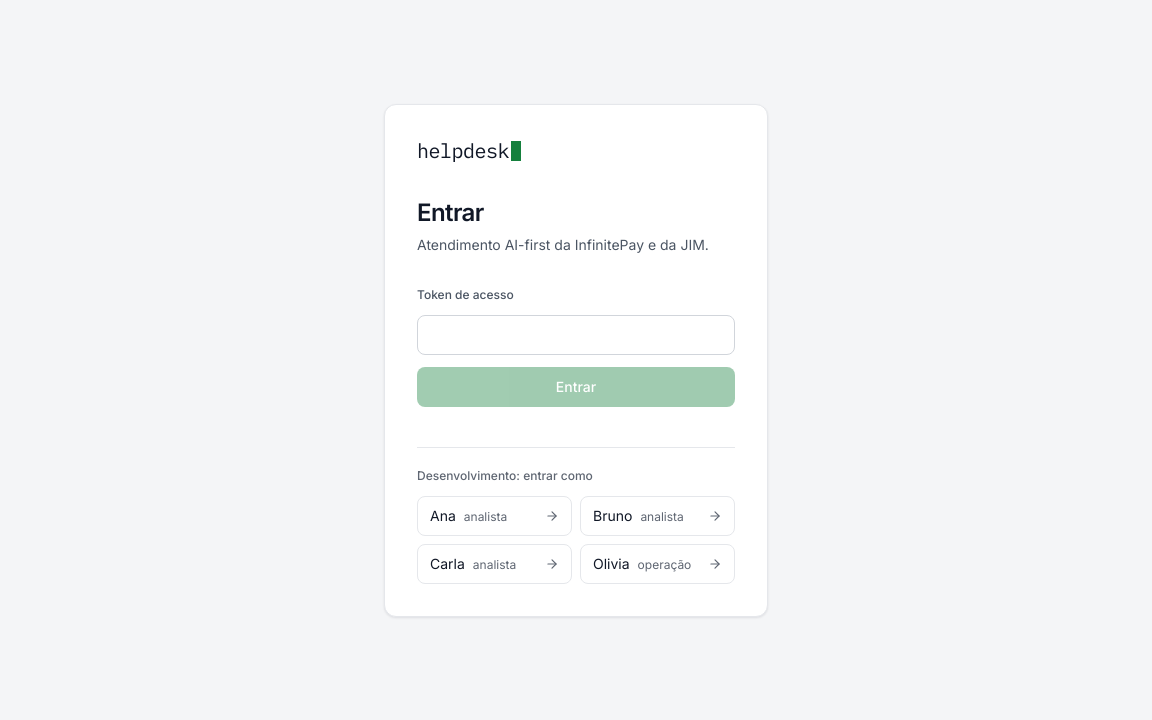
Test: entrada na plataforma › pede o token, confere quem é e mostra a navegação do analista
Type "token-da-ana" into the password field labelled "Token de acesso". click: [576, 334]
box: [417,314,735,354]
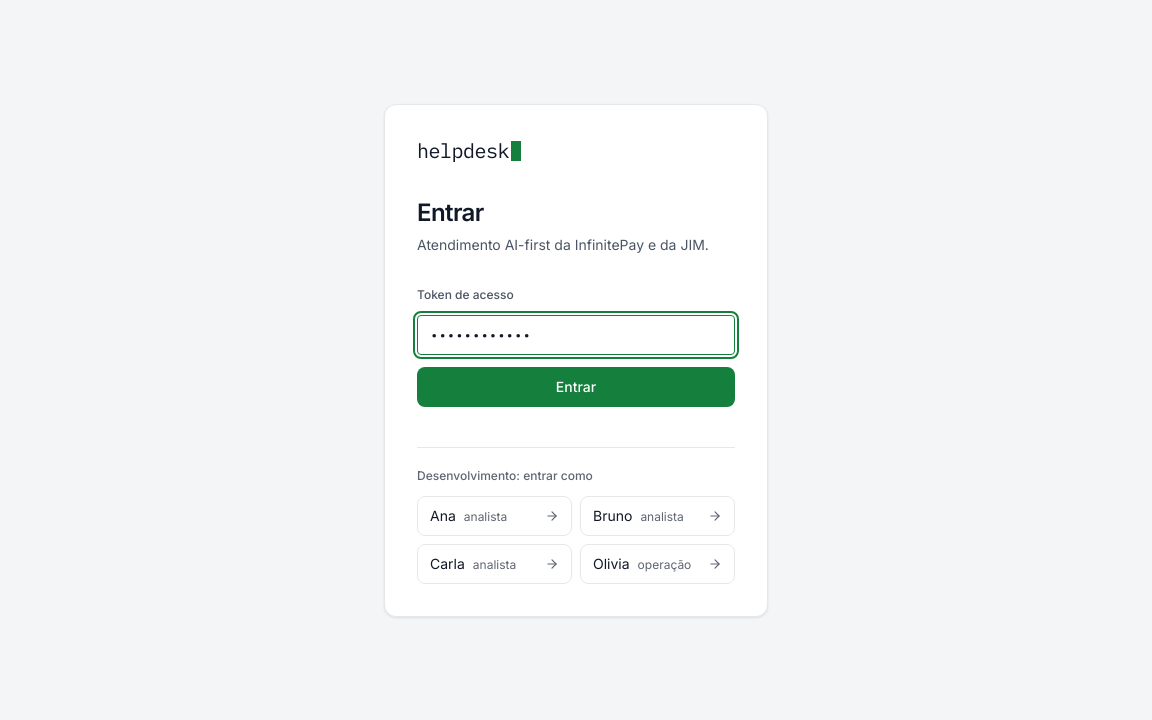
Click the button "Entrar". click: [576, 386]
box: [417,366,735,406]
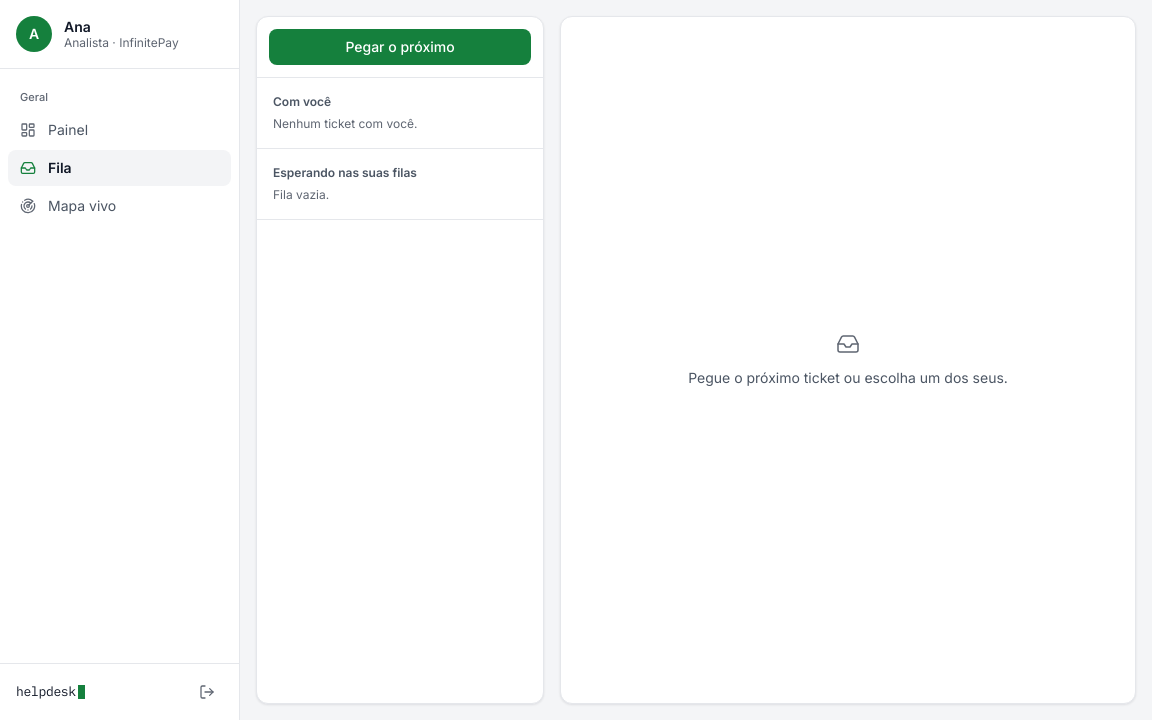
Expected: the text "Ana" is shown, [64,18,91,35]
Expected: the button "Pegar o próximo" is shown, [269,29,531,65]
